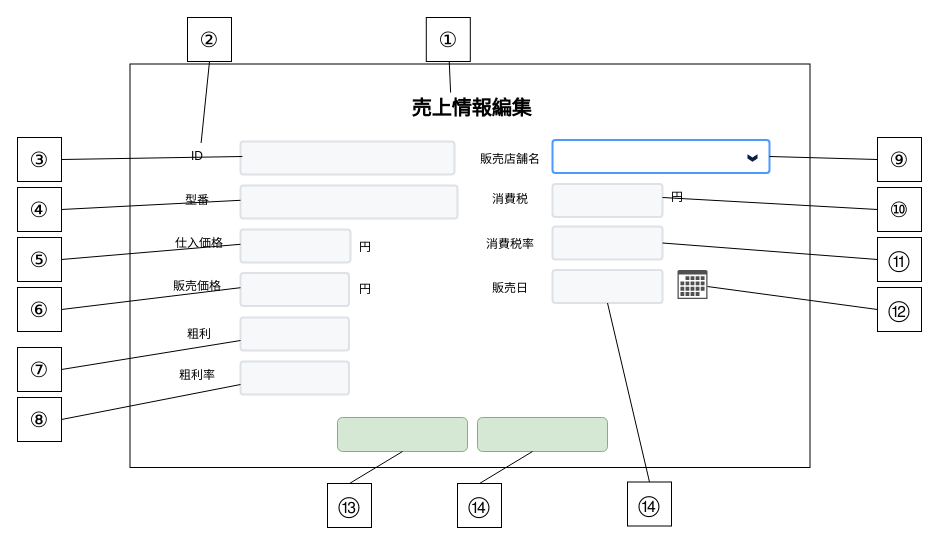
This 939x545 diagram has some shape labels left out. The centre of each missing label's shape, as x and y in pixels:
"削除" goes at (x=542, y=434).
"更新" goes at (x=402, y=434).
